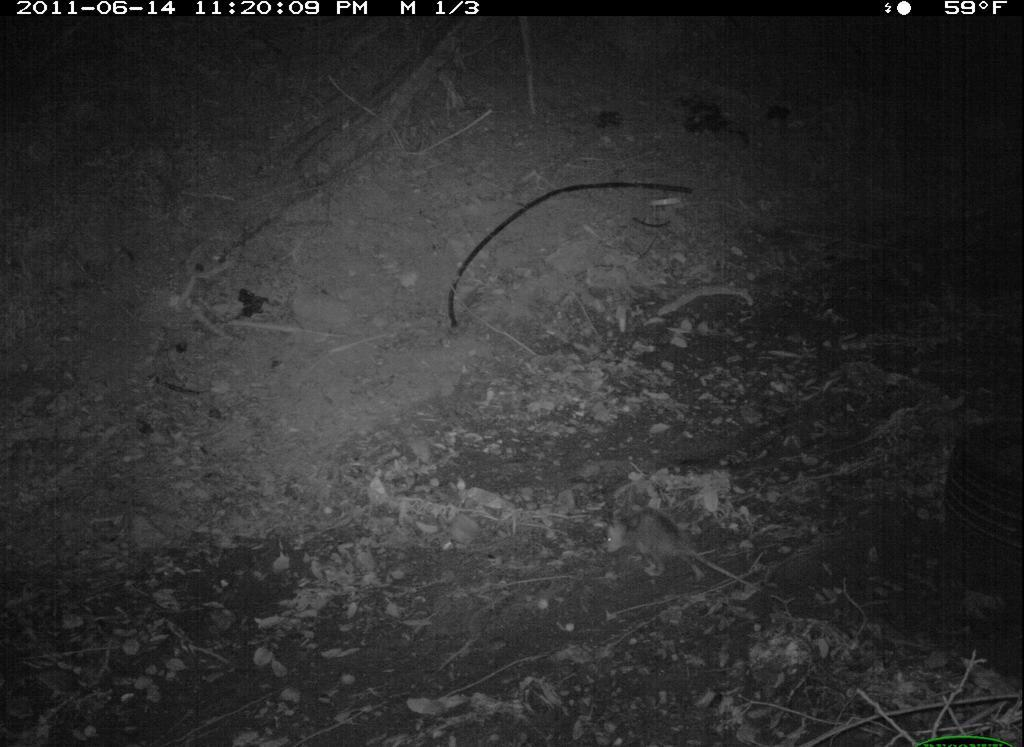opossum: (602, 509, 753, 590)
